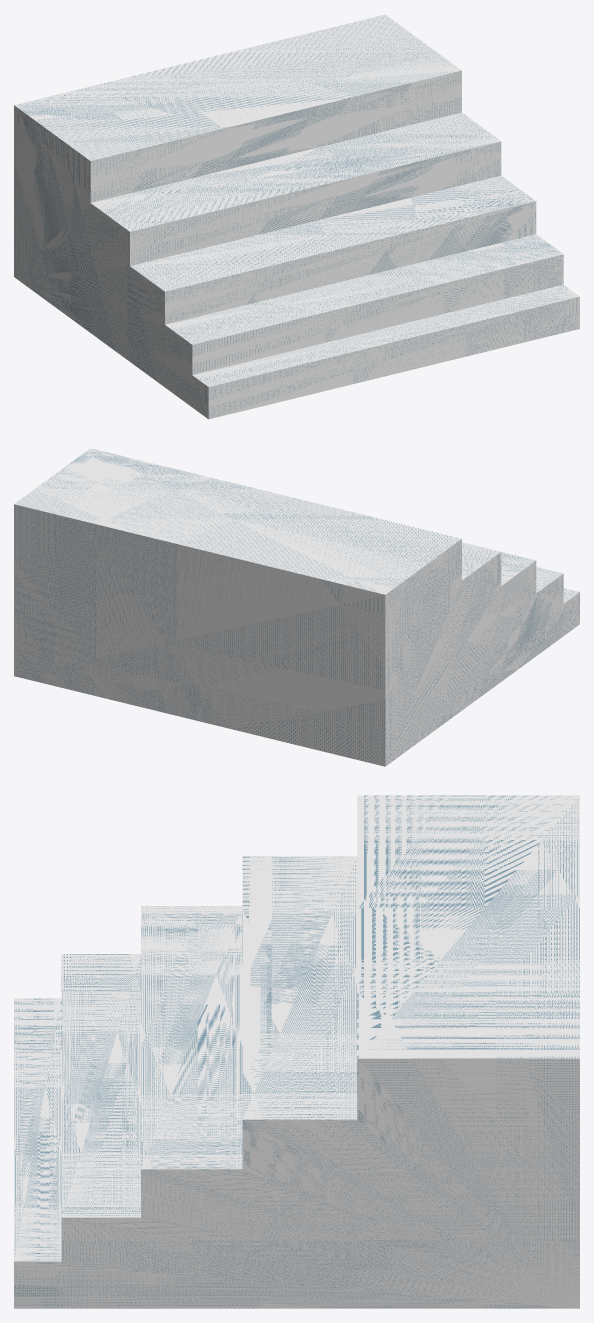
Rendered from escada.dae.
3 views of the same model, one above another, from view 1: azimuth 30°, elevation 25°; view 2: azimuth 150°, elevation 25°; view 3: azimuth 270°, elevation 25° (orthographic). The views are drawn at different scales.
Visible parts, largest first — view 1: SketchUp; view 2: SketchUp; view 3: SketchUp.
Part boxes in pixels (left/top/right/bottom): SketchUp: left=14, top=14, right=579, bottom=419; SketchUp: left=14, top=448, right=579, bottom=766; SketchUp: left=14, top=795, right=579, bottom=1308.
Size of the model in its own units: 63.15 by 57.34 by 27.94.
